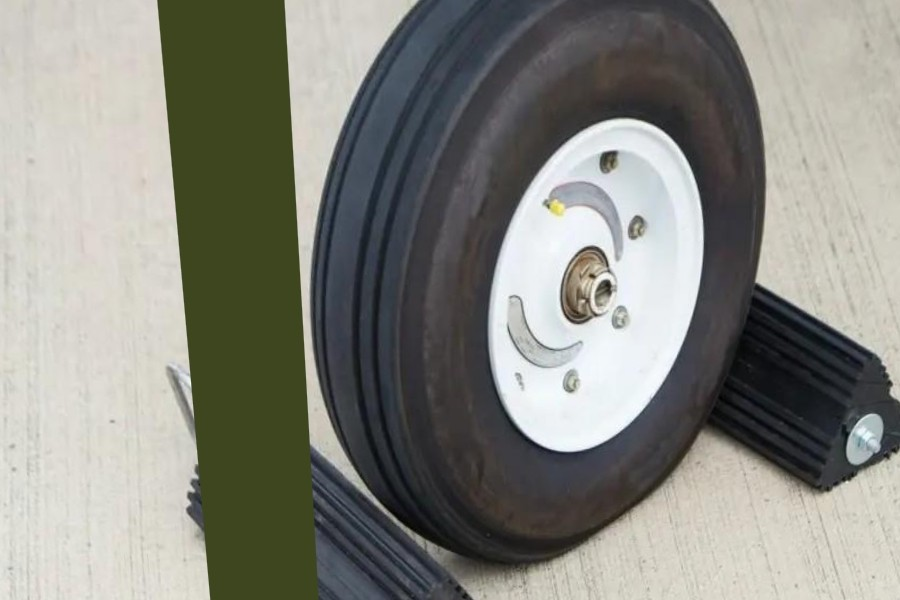chock: (170, 372, 511, 600), (638, 266, 900, 501)
wheel: (295, 0, 781, 568)
